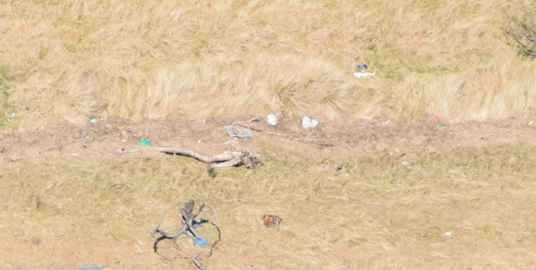scattered_barrel: (215, 42, 385, 149)
straight_bar: (146, 141, 263, 178)
white_in_green: (133, 169, 247, 270), (234, 188, 306, 252)
